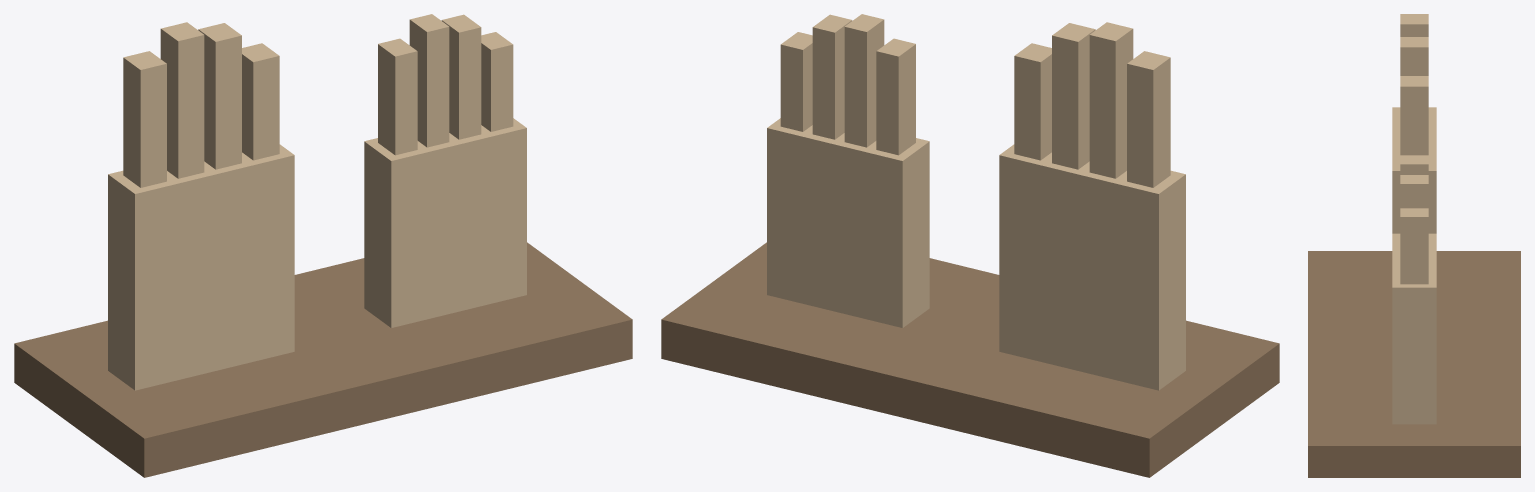
File: prop-finger-form-set.fbx
3 renders of one model, left to right at view 1: azimuth 30°, elevation 25°; view 2: azimuth 150°, elevation 25°; view 3: azimuth 270°, elevation 25°, orthographic. The views are drawn at different scales.
Parts seen in each view (by area): view 1: prop-finger-form-set; view 2: prop-finger-form-set; view 3: prop-finger-form-set.
Part boxes in pixels (left/top/right/bottom): prop-finger-form-set: left=14, top=14, right=632, bottom=477; prop-finger-form-set: left=661, top=14, right=1279, bottom=477; prop-finger-form-set: left=1308, top=14, right=1520, bottom=477.
Bounding box in the file's own units: 26 × 19 × 12.
